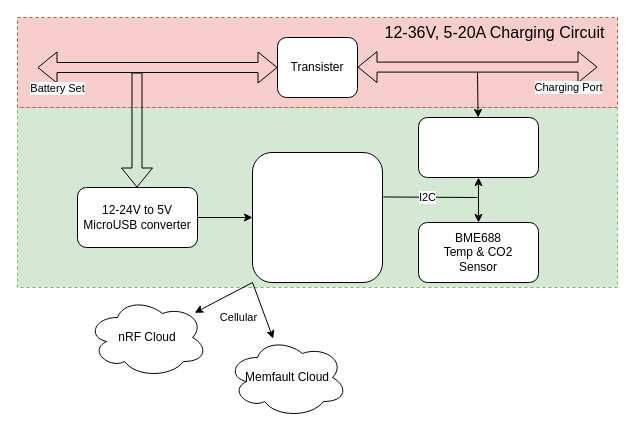
This 635x435 diagram has some shape labels left out. Each missing label, with the centre of its shape:
"INA219 Voltage & Current Monitor" goes at [478,147].
"Nordic nRF9160 DK" goes at [317,217].
